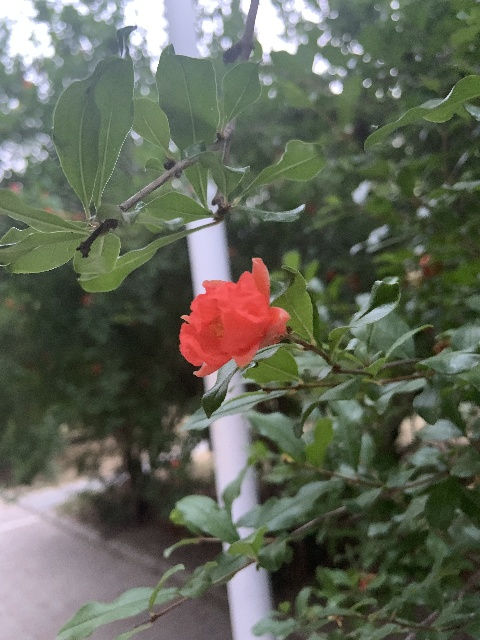early-fruit: (403, 255, 443, 290)
flower: (178, 256, 290, 378)
